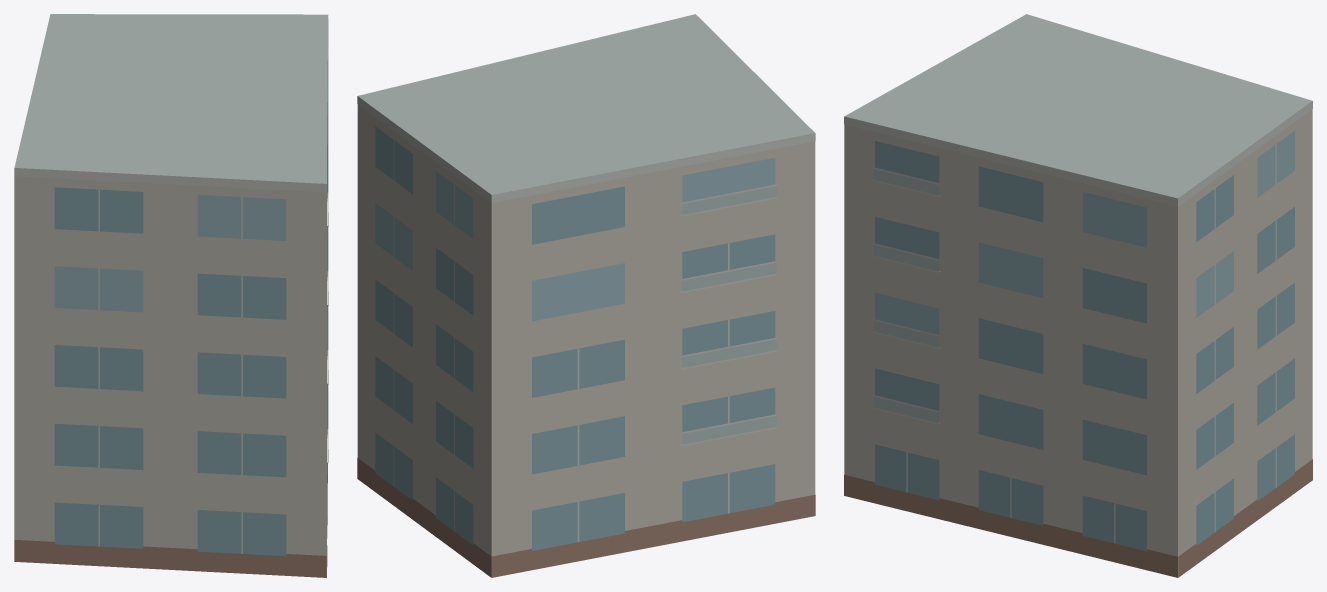
The model's file is survey-upis-32585066.glb.
3 views of the same model, side by side, from view 1: azimuth 30°, elevation 25°; view 2: azimuth 150°, elevation 25°; view 3: azimuth 270°, elevation 25° (orthographic). The views are drawn at different scales.
Parts seen in each view (by area): view 1: survey-upis-32585066.tmp; view 2: survey-upis-32585066.tmp; view 3: survey-upis-32585066.tmp.
Part boxes in pixels (x1,y1,x2,y2): survey-upis-32585066.tmp: (14,14,328,577); survey-upis-32585066.tmp: (357,14,815,577); survey-upis-32585066.tmp: (844,14,1312,577).
Size of the model in its own units: 11.95 by 11.45 by 12.82.
